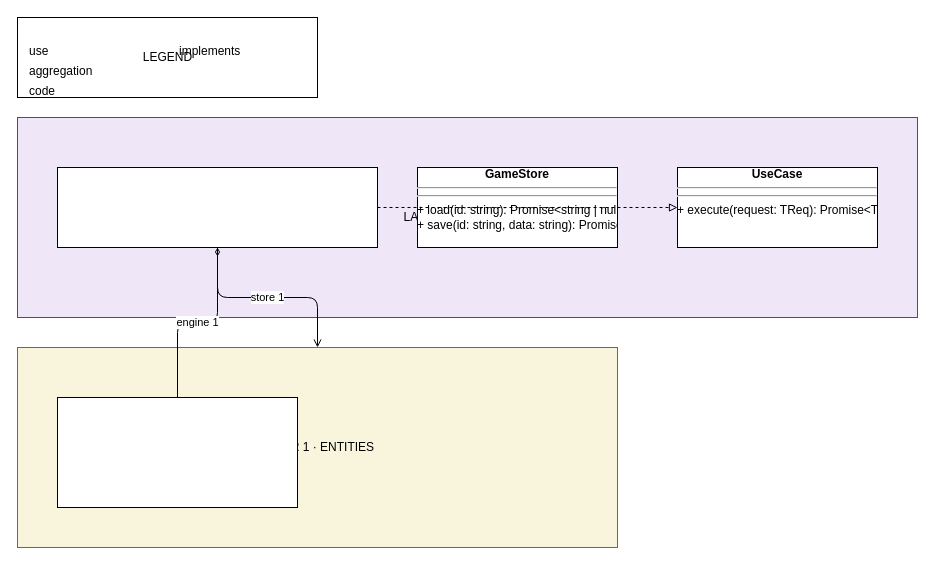
Some shapes in this 935 by 565 pixel diagram are drawn without their labels. Each missing label, with the centre of its shape:
Engine - phase: Phase + play(move: Move): Outcome + undo(): void + redo(): void: pixel 177 452
PlayGame - store: GameStore + execute(request: MoveRequest): Promise<Outcome>: pixel 217 207
